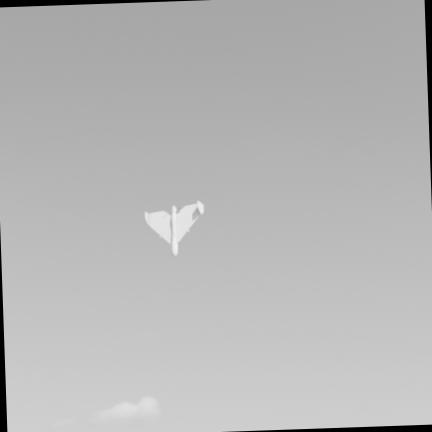Shahed: (145, 200, 204, 257)
